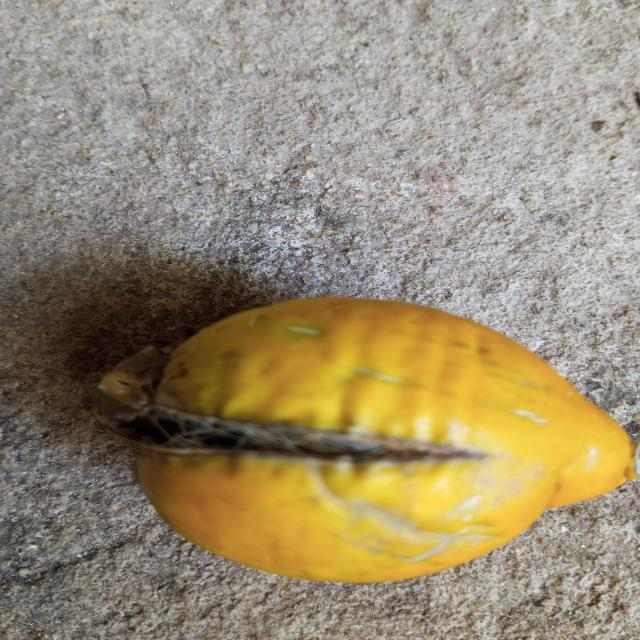damaged: (93, 297, 637, 582)
